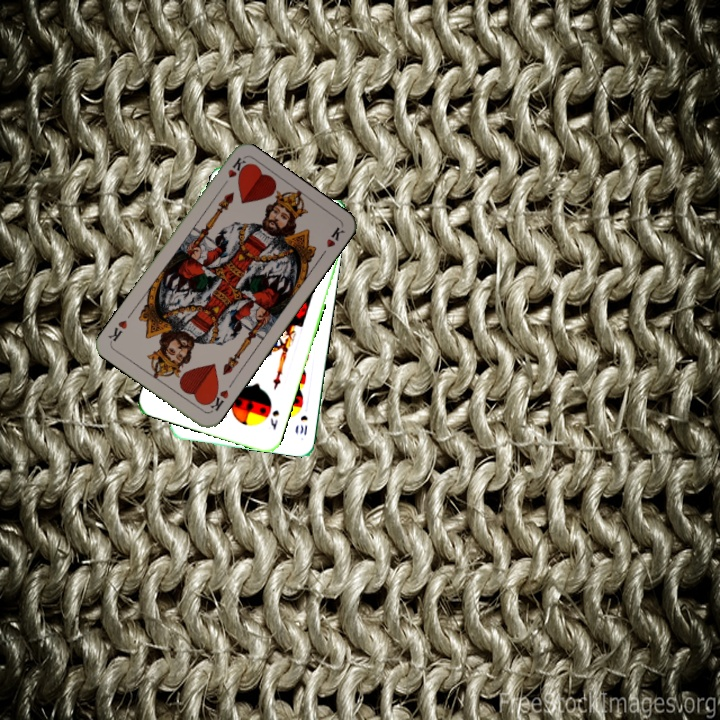HK: (217, 153, 248, 191), (203, 384, 231, 415)
S10: (296, 411, 310, 438)
SK: (266, 406, 282, 433)
